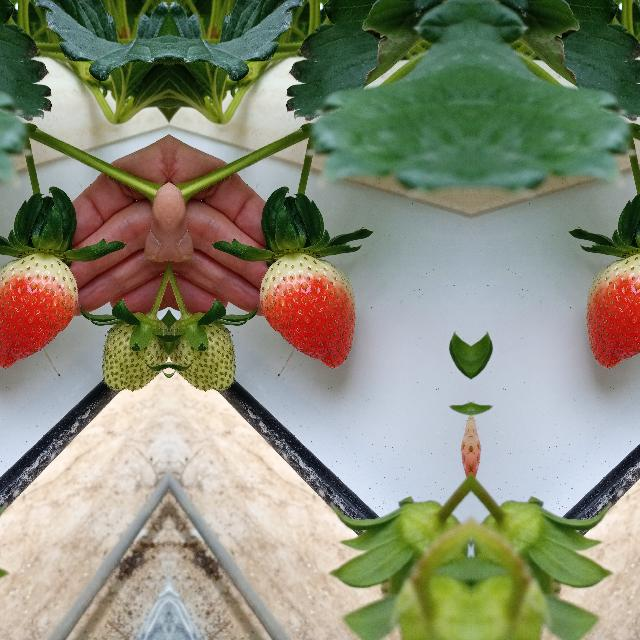Health_25: (168, 311, 238, 395), (98, 311, 168, 395)
Health_75: (257, 253, 355, 369), (0, 253, 79, 369), (586, 253, 640, 369)
